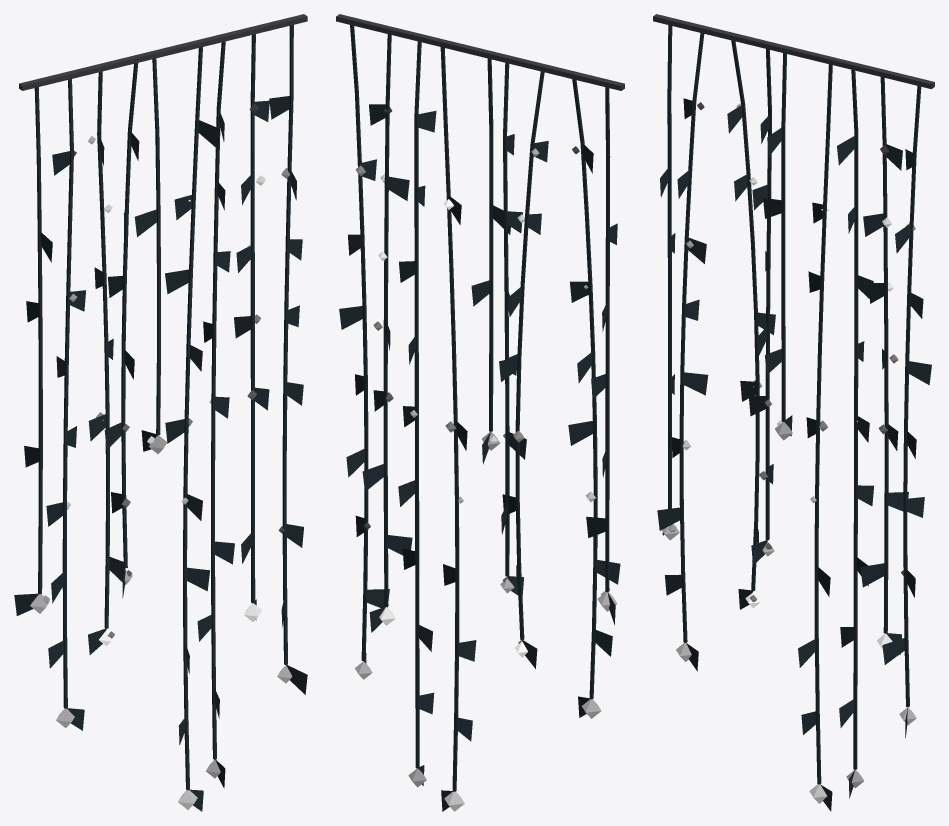
The model's file is vine_curtain_b.glb.
3 views of the same model, side by side, from view 1: azimuth 30°, elevation 25°; view 2: azimuth 150°, elevation 25°; view 3: azimuth 330°, elevation 25° (orthographic). The views are drawn at different scales.
Visible parts, largest first — view 1: vine_curtain_b; view 2: vine_curtain_b; view 3: vine_curtain_b.
Boxes of the visible parts, x1,y1,x2,y2 form: vine_curtain_b: (14,14,307,811); vine_curtain_b: (336,14,624,811); vine_curtain_b: (653,14,934,811).
Bounding box in the file's own units: 2.4 × 6.2 × 0.5422.
Materials: 3 (1 with a texture image).
